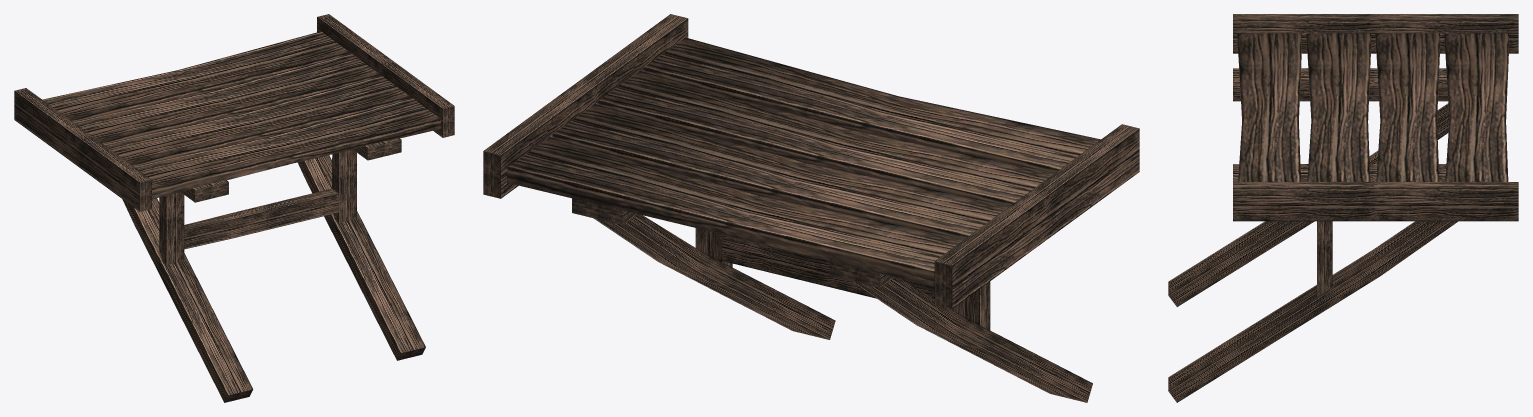
File: CB_LOOKOUT_PLATFORM01.fbx
The picture shows the model from 3 angles, left to right: view 1: azimuth 30°, elevation 25°; view 2: azimuth 150°, elevation 25°; view 3: azimuth 270°, elevation 25°; orthographic projection. The views are drawn at different scales.
Visible parts, largest first — view 1: CB_LOOKOUT_PLATFORM01; view 2: CB_LOOKOUT_PLATFORM01; view 3: CB_LOOKOUT_PLATFORM01.
Boxes of the visible parts, x1,y1,x2,y2 form: CB_LOOKOUT_PLATFORM01: [14, 14, 454, 402]; CB_LOOKOUT_PLATFORM01: [483, 14, 1139, 402]; CB_LOOKOUT_PLATFORM01: [1168, 14, 1518, 402].
Bounding box in the file's own units: 26035 × 17132 × 22089.
1 material, 1 textured.
